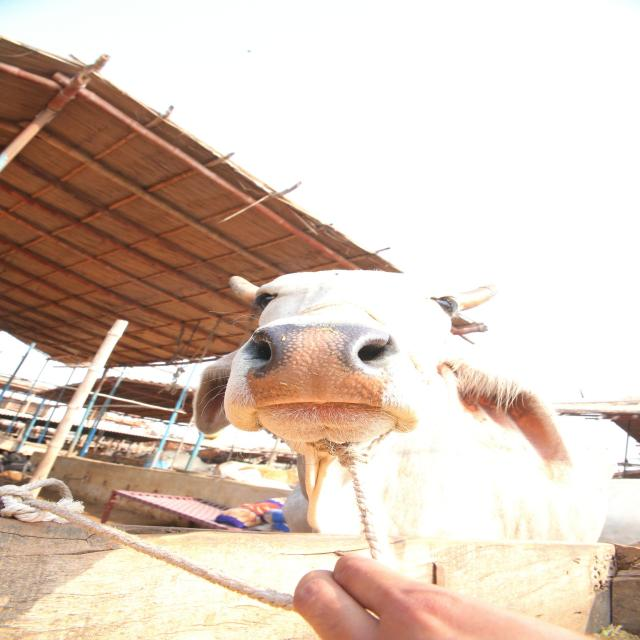muzzles: (226, 319, 407, 413)
